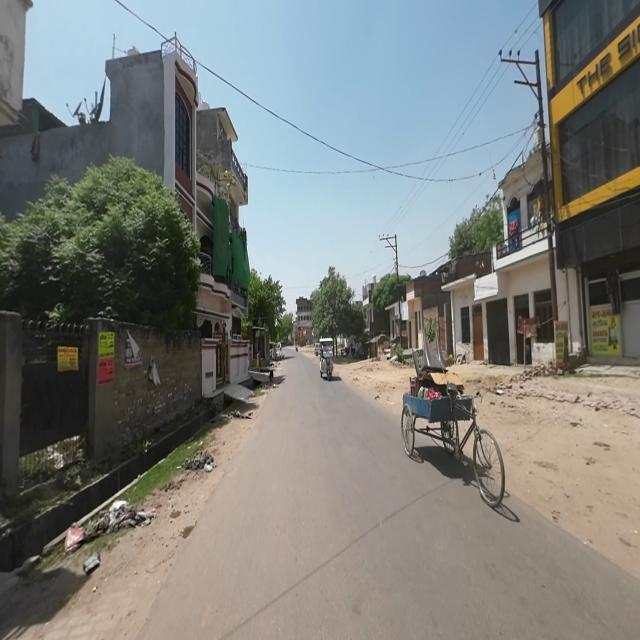Garbage: (109, 501, 153, 532), (183, 448, 216, 473)
